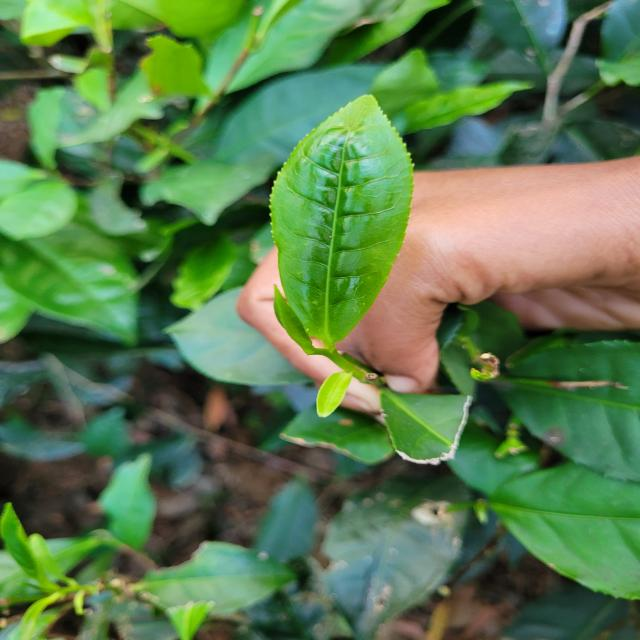Catagory A(1-2 days): (246, 84, 421, 368)
